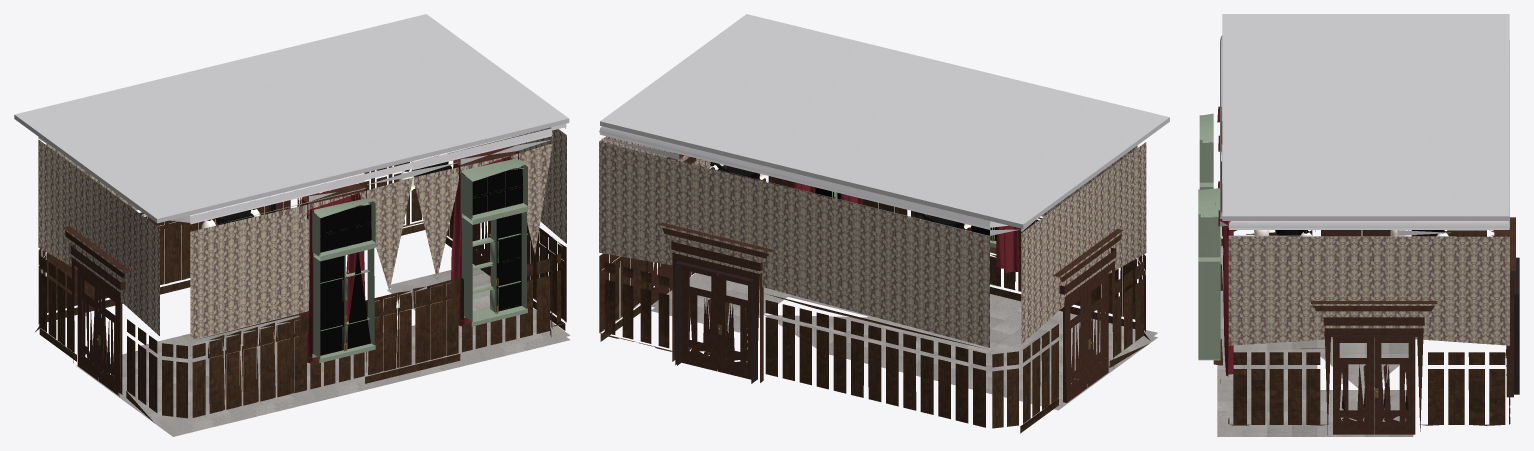
Rendered from vip2.glb.
The picture shows the model from 3 angles, left to right: view 1: azimuth 30°, elevation 25°; view 2: azimuth 150°, elevation 25°; view 3: azimuth 270°, elevation 25°; orthographic projection. The views are drawn at different scales.
Visible parts, largest first — view 1: Object_10, Object_12, Object_9, Object_16, Object_5, Object_4, Object_7, Object_17, Object_11, Object_13; view 2: Object_10, Object_12, Object_9, Object_7, Object_16, Object_8, Object_17, Object_13; view 3: Object_10, Object_12, Object_7, Object_9, Object_16, Object_4, Object_17, Object_8.
Boxes of the visible parts, x1,y1,x2,y2 form: Object_10: (14,14,569,225); Object_12: (38,127,566,339); Object_9: (35,155,566,423); Object_16: (76,264,569,436); Object_5: (320,167,522,355); Object_4: (312,158,527,362); Object_7: (63,143,517,397); Object_17: (299,146,518,363); Object_11: (38,136,552,201); Object_13: (207,152,452,224); Object_10: (599,14,1169,236); Object_12: (599,136,1146,347); Object_9: (599,165,1150,433); Object_7: (640,152,1123,402); Object_16: (651,273,1157,410); Object_8: (675,261,757,383); Object_17: (793,182,1019,272); Object_13: (710,162,964,230); Object_10: (1220,14,1509,236); Object_12: (1228,236,1509,345); Object_7: (1221,107,1515,434); Object_9: (1213,161,1510,425); Object_16: (1217,237,1413,436); Object_4: (1198,113,1220,360); Object_17: (1217,106,1233,376); Object_8: (1331,257,1519,394).
Bounding box in the file's own units: 10.05 × 5 × 6.59.
Materials: 13 (11 with a texture image).
